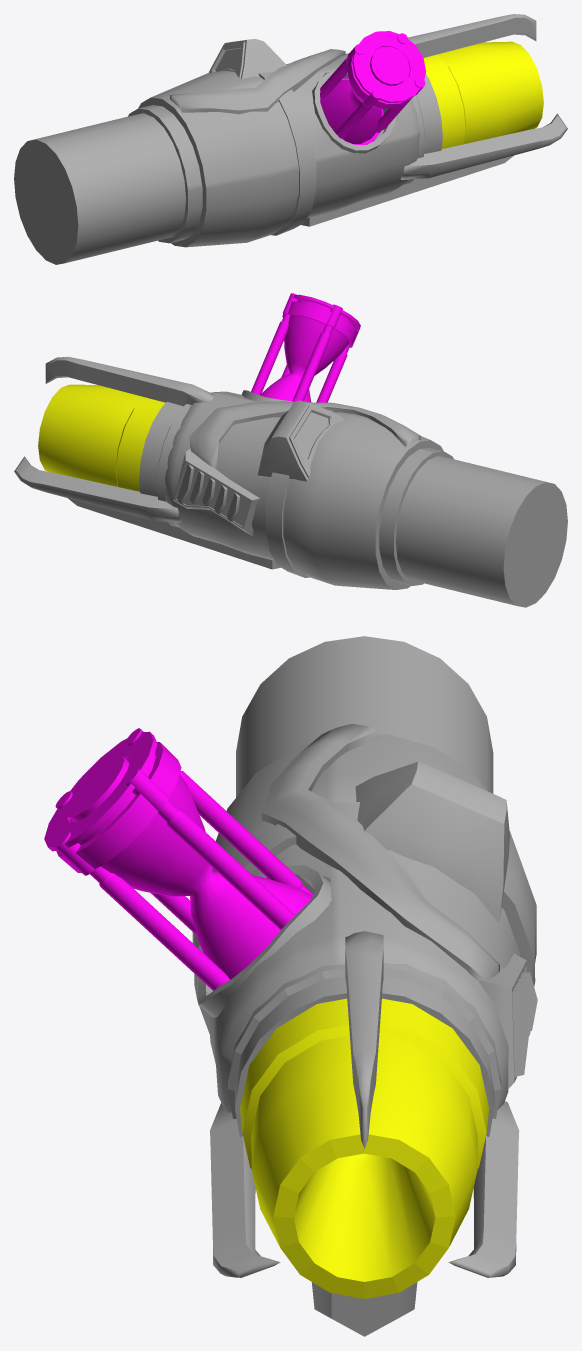
Rendered from Player Blaster V2_5.fbx.
3 renders of one model, top to bottom at view 1: azimuth 30°, elevation 25°; view 2: azimuth 150°, elevation 25°; view 3: azimuth 270°, elevation 25°, orthographic. The views are drawn at different scales.
Visible parts, largest first — view 1: Body_Base, Camera_Buffer, Barrel, Hourglass_Body, pCylinder8, Claw_Top2, Claw_Top, Body_Ring, Barrel_Ring, Body_Screen, Under_Barrel, Connector_Ring (+3 smaller); view 2: Body_Base, Camera_Buffer, Barrel, Hourglass_Body, Body_Screen, Claw_Top2, pCylinder8, Claw_Top, Connector_Ring, Hourglass_Poles, pCube1, Barrel_Ring (+2 smaller); view 3: Barrel, Body_Base, Camera_Buffer, Hourglass_Body, pCylinder8, Body_Screen, Claw_Top2, Hourglass_Poles, Connector_Ring, Barrel_Ring, Claw_Top, pCylinder7 (+5 smaller).
Boxes of the visible parts, x1,y1,x2,y2 form: Body_Base: [128, 53, 419, 247]; Camera_Buffer: [14, 113, 185, 264]; Barrel: [438, 41, 543, 143]; Hourglass_Body: [320, 31, 425, 144]; pCylinder8: [170, 49, 345, 114]; Claw_Top2: [401, 113, 567, 179]; Claw_Top: [408, 14, 536, 57]; Body_Ring: [258, 72, 316, 235]; Barrel_Ring: [423, 54, 466, 148]; Body_Screen: [208, 38, 286, 78]; Under_Barrel: [301, 155, 513, 226]; Connector_Ring: [374, 74, 442, 184]; Body_Base: [165, 391, 453, 589]; Camera_Buffer: [396, 456, 567, 607]; Barrel: [38, 384, 143, 486]; Hourglass_Body: [261, 294, 360, 402]; Body_Screen: [257, 400, 344, 481]; Claw_Top2: [14, 456, 181, 522]; pCylinder8: [189, 401, 420, 469]; Claw_Top: [45, 356, 214, 406]; Connector_Ring: [139, 402, 191, 527]; Hourglass_Poles: [251, 313, 349, 402]; pCube1: [173, 448, 259, 535]; Barrel_Ring: [115, 397, 165, 491]; Barrel: [251, 1035, 477, 1298]; Body_Base: [192, 734, 536, 1112]; Camera_Buffer: [236, 636, 493, 882]; Hourglass_Body: [44, 731, 312, 979]; pCylinder8: [261, 724, 499, 981]; Body_Screen: [355, 761, 509, 921]; Claw_Top2: [210, 1101, 519, 1277]; Hourglass_Poles: [90, 771, 312, 990]; Connector_Ring: [228, 962, 501, 1136]; Barrel_Ring: [240, 998, 489, 1168]; Claw_Top: [345, 931, 383, 1148]; pCylinder7: [197, 865, 331, 1017].
Size of the model in its own units: 484 by 211 by 211.
